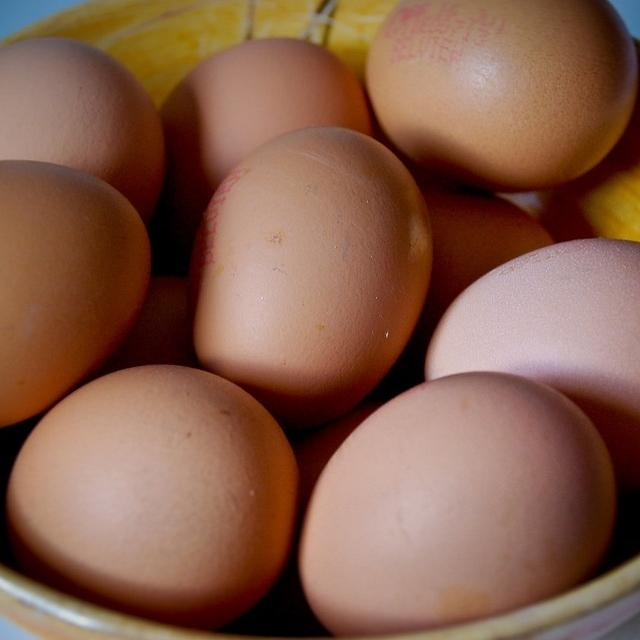egg: (298, 370, 616, 637), (5, 363, 299, 628), (188, 125, 433, 424), (423, 236, 640, 485), (364, 0, 639, 190), (160, 36, 372, 238), (0, 158, 151, 434), (0, 36, 165, 222)
